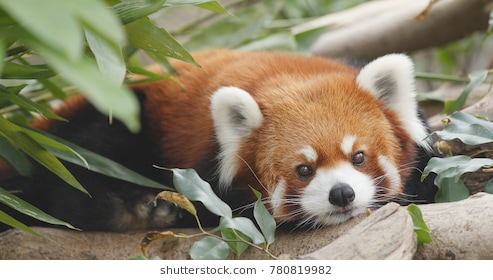red_panda: (22, 54, 432, 235)
